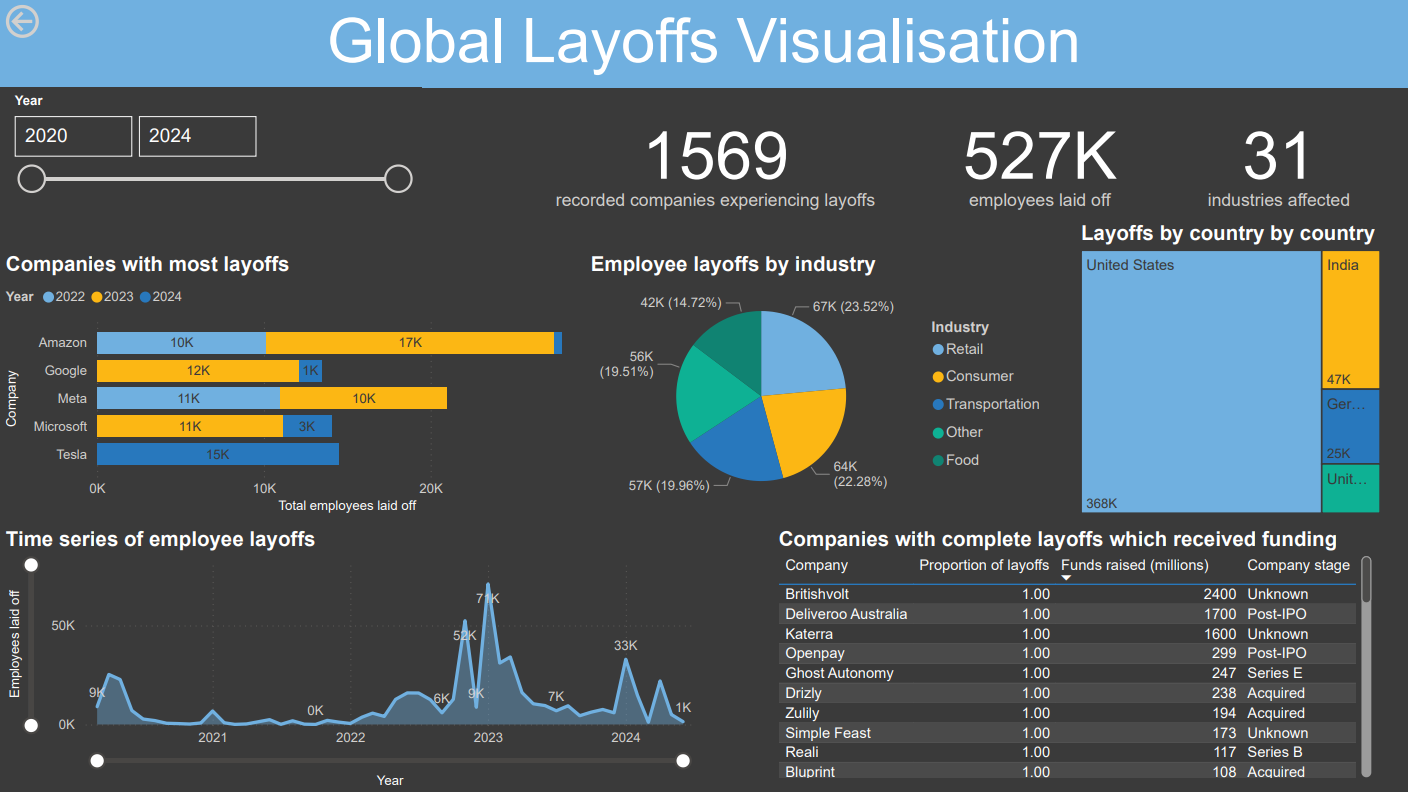

The page's visual inventory and layout, read from the dashboard file:
{"tool":"powerbi","page":{"name":"Page 1","canvas":[1280,720],"ordinal":0},"visuals":[{"type":"card","fields":{"Values":["Sum(layoffs_data_2.total_laid_off)"]},"box":[852.2,88.9,186.7,113.3],"z":0},{"type":"textbox","box":[0,0,1280,80],"z":1000},{"type":"lineChart","title":"Time series of employee layoffs","fields":{"Category":["layoffs_data_2.date.Variation.Date Hierarchy.Year","layoffs_data_2.date.Variation.Date Hierarchy.Quarter","layoffs_data_2.date.Variation.Date Hierarchy.Month","layoffs_data_2.date.Variation.Date Hierarchy.Day"],"Y":["Sum(layoffs_data_2.total_laid_off)"]},"box":[0,480,640,240],"z":2000},{"type":"barChart","title":"Companies with most layoffs","fields":{"Category":["layoffs_data_2.company","layoffs_data_2.date.Variation.Date Hierarchy.Year"],"Y":["Sum(layoffs_data_2.total_laid_off)"],"Series":["layoffs_data_2.date.Variation.Date Hierarchy.Year"]},"box":[0,230,558.9,242.2],"z":3000},{"type":"actionButton","box":[0,0,100,40],"z":4000},{"type":"pieChart","title":"Employee layoffs by industry","fields":{"Category":["layoffs_data_2.industry"],"Y":["Sum(layoffs_data_2.total_laid_off)"]},"box":[532.2,230,427.8,240],"z":5000},{"type":"treemap","fields":{"Group":["layoffs_data_2.country"],"Values":["Sum(layoffs_data_2.total_laid_off)"]},"box":[977.8,202.2,282.2,270],"z":6000},{"type":"slicer","fields":{"Values":["layoffs_data_2.date.Variation.Date Hierarchy.Year"]},"box":[0,80,383.3,113.3],"z":7000},{"type":"tableEx","title":"Companies with complete layoffs which received funding","fields":{"Values":["layoffs_data_2.company","Sum(layoffs_data_2.percentage_laid_off)","Sum(layoffs_data_2.funds_raised_millions)","layoffs_data_2.stage"]},"box":[703.3,480,548.9,232.2],"z":8000},{"type":"card","fields":{"Values":["Count(layoffs_data_2.industry)"]},"box":[1074.4,88.9,177.8,113.3],"z":9000},{"type":"card","fields":{"Values":["Count(layoffs_data_2.company)"]},"box":[490,88.9,321.1,113.3],"z":9001}]}

Visuals, with their boxes in screenshot pixels (x1, y1, x2, y2), scaled from the page's 1280x720 canvas onto the 1408x792 screenshot:
card - Sum(layoffs_data_2.total_laid_off): crop(937, 98, 1143, 222)
textbox: crop(0, 0, 1407, 88)
"Time series of employee layoffs" lineChart: crop(0, 528, 704, 791)
"Companies with most layoffs" barChart: crop(0, 253, 615, 519)
actionButton: crop(0, 0, 110, 44)
"Employee layoffs by industry" pieChart: crop(585, 253, 1056, 517)
treemap - layoffs_data_2.country x Sum(layoffs_data_2.total_laid_off): crop(1076, 222, 1386, 519)
slicer - layoffs_data_2.date.Variation.Date Hierarchy.Year: crop(0, 88, 422, 213)
"Companies with complete layoffs which received funding" tableEx: crop(774, 528, 1377, 783)
card - Count(layoffs_data_2.industry): crop(1182, 98, 1377, 222)
card - Count(layoffs_data_2.company): crop(539, 98, 892, 222)
